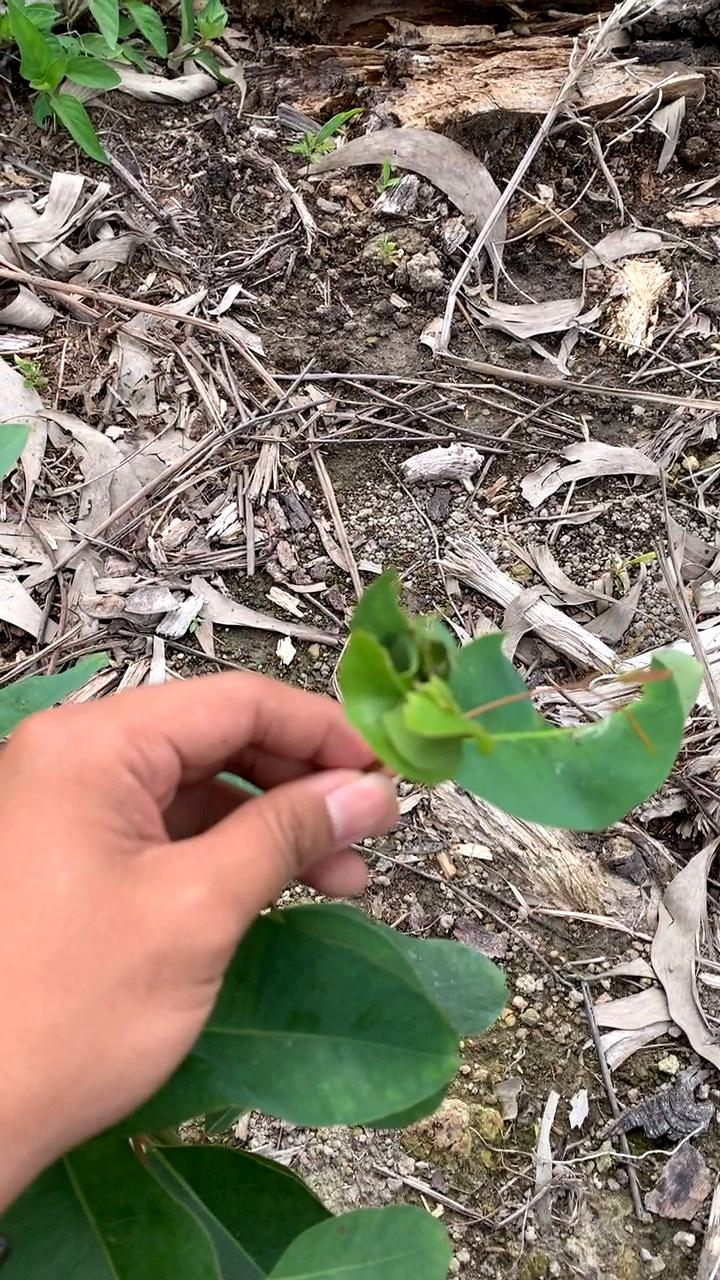Leaf Roller - Leaf: (338, 578, 505, 793)
